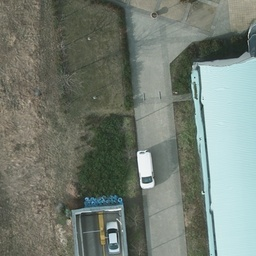car: (134, 148, 156, 192), (106, 220, 122, 253)
